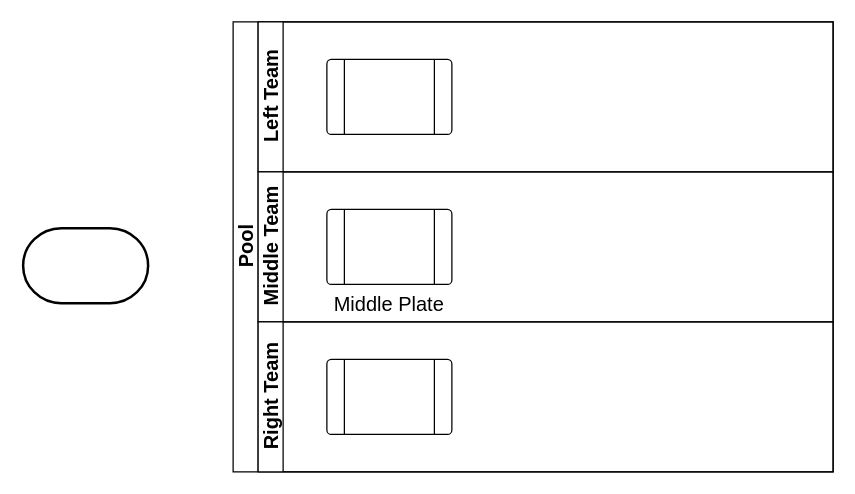
Some shapes in this 855 by 494 pixel diagram are drawn without their labels. Each missing label, with the centre of its shape:
Left Plate: [389,96]
Right Plate: [389,396]
Start: [85,265]
